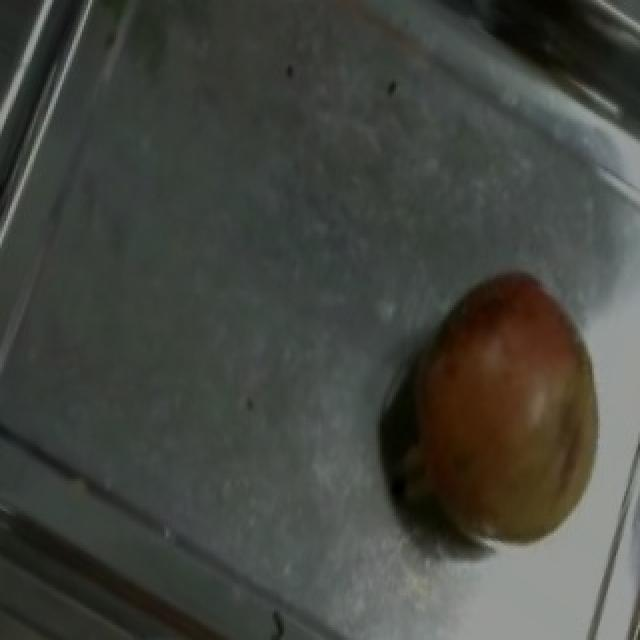fruit: (384, 243, 636, 536)
